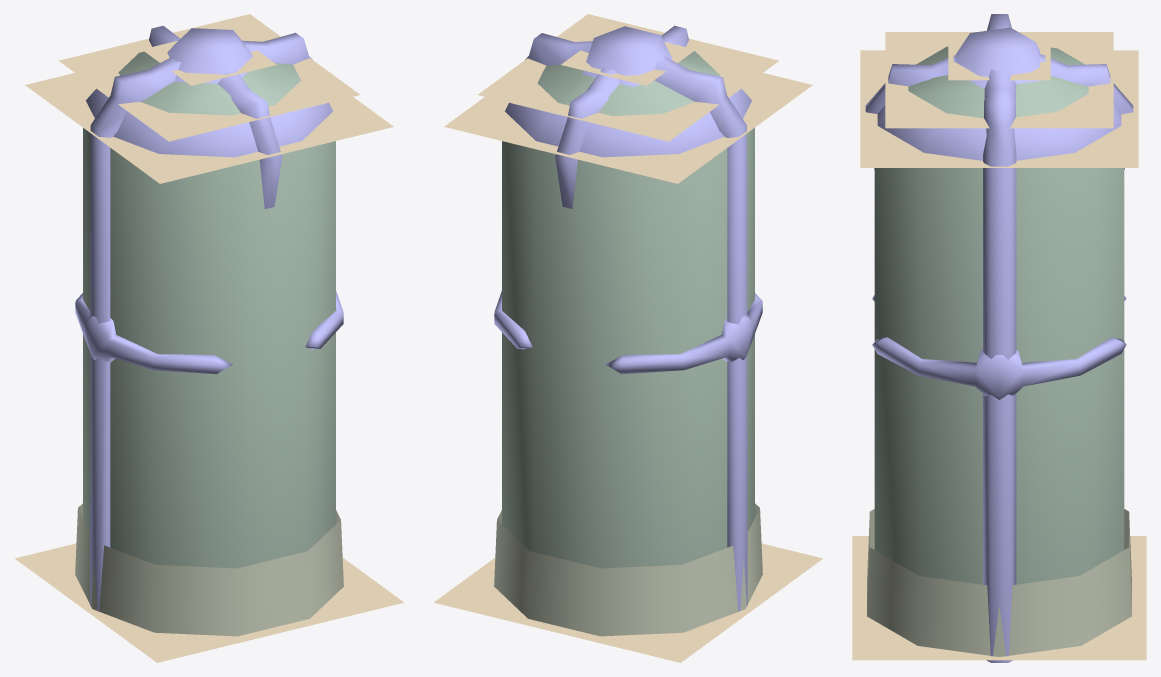
3 views of the same model, side by side, from view 1: azimuth 30°, elevation 25°; view 2: azimuth 150°, elevation 25°; view 3: azimuth 270°, elevation 25° (orthographic). The views are drawn at different scales.
Visible parts, largest first — view 1: Object32; view 2: Object32; view 3: Object32.
Boxes of the visible parts, bbox=[...] form: Object32: bbox=[14, 14, 403, 662]; Object32: bbox=[434, 14, 823, 662]; Object32: bbox=[852, 14, 1146, 662].
Bounding box in the file's own units: 195 × 412 × 195.
